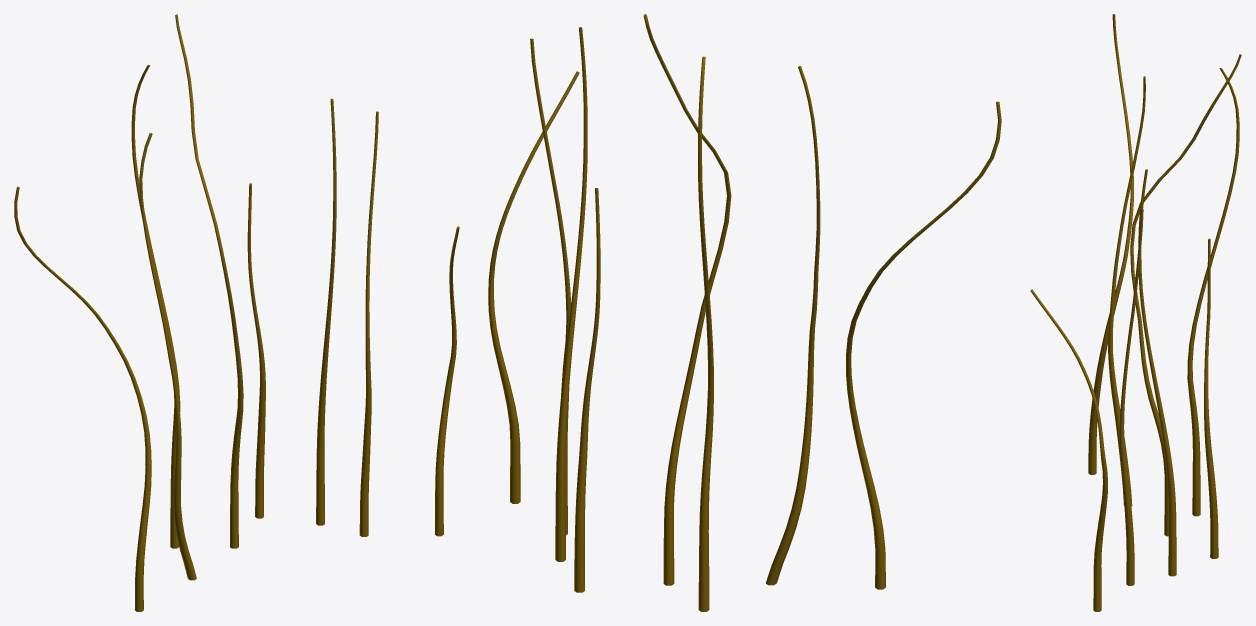
The model's file is wheet2.obj.
3 views of the same model, side by side, from view 1: azimuth 30°, elevation 25°; view 2: azimuth 150°, elevation 25°; view 3: azimuth 270°, elevation 25° (orthographic). The views are drawn at different scales.
Visible parts, largest first — view 1: Wheet.020, Wheet.010, Wheet, Wheet.019, Wheet.021, Wheet.001, Wheet.018, Wheet.009; view 2: Wheet.020, Wheet.009, Wheet, Wheet.021, Wheet.010, Wheet.018, Wheet.001, Wheet.019; view 3: Wheet.009, Wheet.010, Wheet, Wheet.020, Wheet.019, Wheet.018, Wheet.001, Wheet.021.
Boxes of the visible parts, x1=… form: Wheet.020: x1=175, y1=14, x2=243, y2=548; Wheet.010: x1=14, y1=186, x2=151, y2=611; Wheet: x1=316, y1=98, x2=336, y2=525; Wheet.019: x1=359, y1=111, x2=378, y2=536; Wheet.021: x1=139, y1=133, x2=196, y2=580; Wheet.001: x1=247, y1=183, x2=265, y2=518; Wheet.018: x1=435, y1=226, x2=459, y2=536; Wheet.009: x1=131, y1=65, x2=180, y2=548; Wheet.020: x1=643, y1=14, x2=731, y2=585; Wheet.009: x1=698, y1=56, x2=713, y2=611; Wheet: x1=555, y1=27, x2=587, y2=561; Wheet.021: x1=766, y1=66, x2=820, y2=585; Wheet.010: x1=846, y1=101, x2=1001, y2=589; Wheet.018: x1=488, y1=71, x2=579, y2=503; Wheet.001: x1=574, y1=188, x2=600, y2=592; Wheet.019: x1=530, y1=38, x2=571, y2=534; Wheet.009: x1=1187, y1=68, x2=1239, y2=516; Wheet.010: x1=1088, y1=14, x2=1133, y2=474; Wheet: x1=1138, y1=169, x2=1176, y2=576; Wheet.020: x1=1130, y1=54, x2=1241, y2=536; Wheet.019: x1=1119, y1=209, x2=1143, y2=585; Wheet.018: x1=1030, y1=289, x2=1107, y2=611; Wheet.001: x1=1204, y1=238, x2=1218, y2=558; Wheet.021: x1=1108, y1=76, x2=1145, y2=506.
Size of the model in its own units: 0.9356 by 1.05 by 0.4248.
